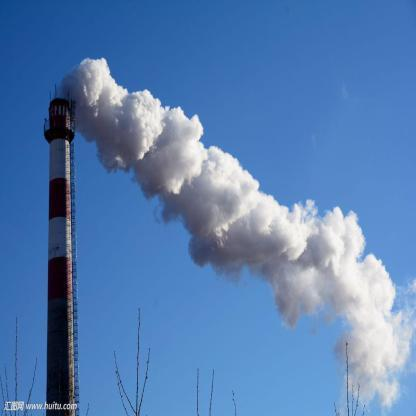smoke: (162, 100, 204, 262), (268, 282, 400, 330), (205, 144, 249, 280), (292, 204, 368, 280), (340, 330, 414, 406), (251, 172, 289, 280), (127, 86, 162, 196), (74, 55, 110, 141), (96, 86, 131, 174)
